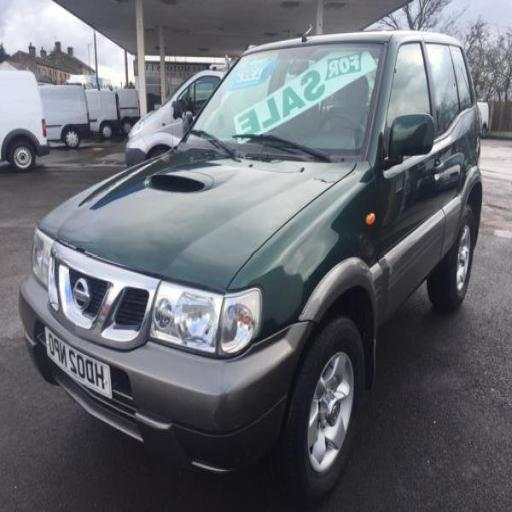License: (37, 326, 120, 404)
